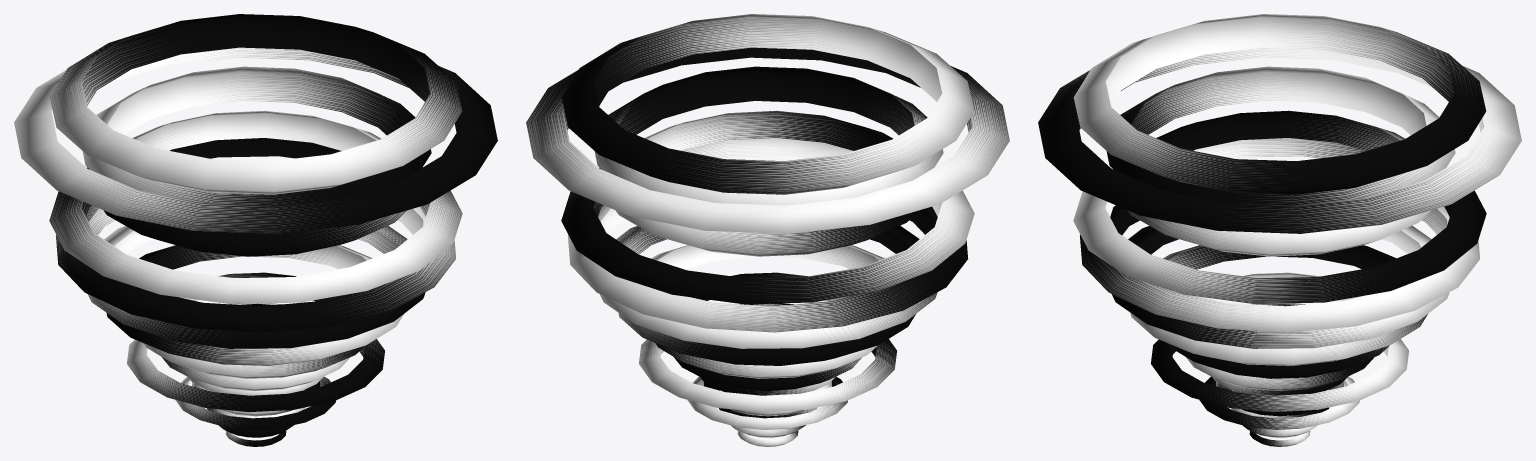
The model's file is Wind_FBX 2.fbx.
3 renders of one model, left to right at view 1: azimuth 30°, elevation 25°; view 2: azimuth 150°, elevation 25°; view 3: azimuth 270°, elevation 25°, orthographic.
Visible parts, largest first — view 1: wind_FBX; view 2: wind_FBX; view 3: wind_FBX.
Part boxes in pixels (x1,y1,x2,y2): wind_FBX: (14, 14, 497, 446); wind_FBX: (526, 14, 1009, 446); wind_FBX: (1038, 14, 1521, 446).
Bounding box in the file's own units: 4474 × 3554 × 4472.
